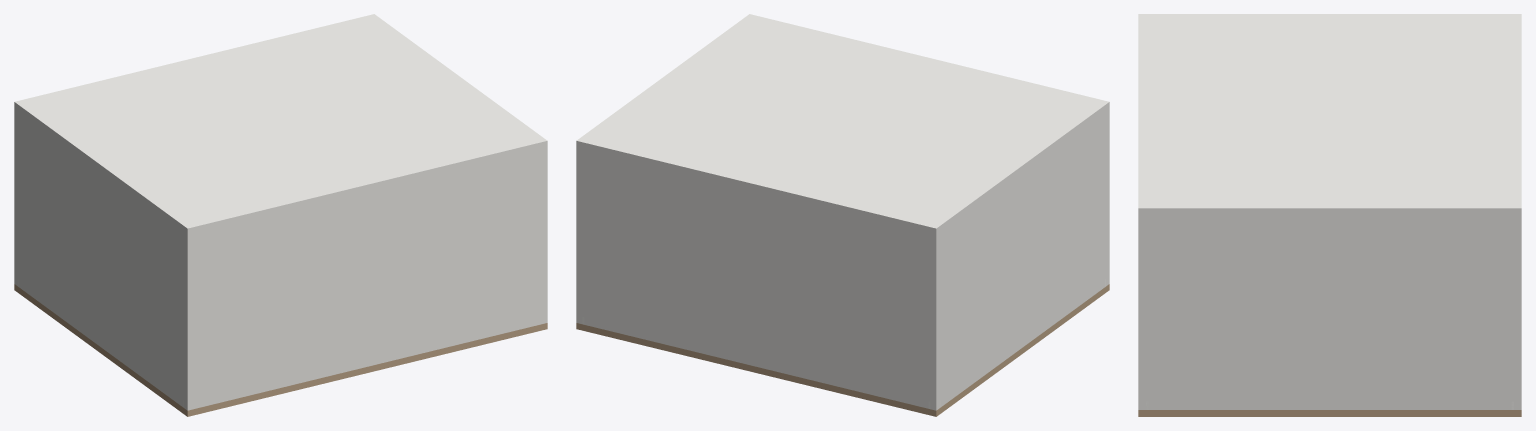
Rendered from KitchenRoom.fbx.
3 views of the same model, side by side, from view 1: azimuth 30°, elevation 25°; view 2: azimuth 150°, elevation 25°; view 3: azimuth 270°, elevation 25° (orthographic). The views are drawn at different scales.
Visible parts, largest first — view 1: Ceiling, Wall_Back, Wall_Left, Floor, Wall_Right; view 2: Ceiling, Wall_Front, Wall_Left, Floor, Wall_Back; view 3: Ceiling, Wall_Right, Floor, Wall_Front, Wall_Back.
Boxes of the visible parts, x1=… form: Ceiling: x1=14, y1=14, x2=547, y2=234; Wall_Back: x1=184, y1=147, x2=547, y2=410; Wall_Left: x1=14, y1=108, x2=193, y2=406; Floor: x1=14, y1=284, x2=547, y2=416; Wall_Right: x1=541, y1=188, x2=547, y2=323; Ceiling: x1=576, y1=14, x2=1109, y2=234; Wall_Front: x1=576, y1=147, x2=939, y2=410; Wall_Left: x1=930, y1=108, x2=1109, y2=409; Floor: x1=576, y1=284, x2=1109, y2=416; Wall_Back: x1=1106, y1=109, x2=1109, y2=286; Ceiling: x1=1138, y1=14, x2=1521, y2=215; Wall_Right: x1=1138, y1=215, x2=1521, y2=409; Floor: x1=1138, y1=410, x2=1521, y2=416; Wall_Front: x1=1514, y1=215, x2=1521, y2=409; Wall_Back: x1=1138, y1=215, x2=1145, y2=408.
Size of the model in its own units: 6 by 3 by 5.
